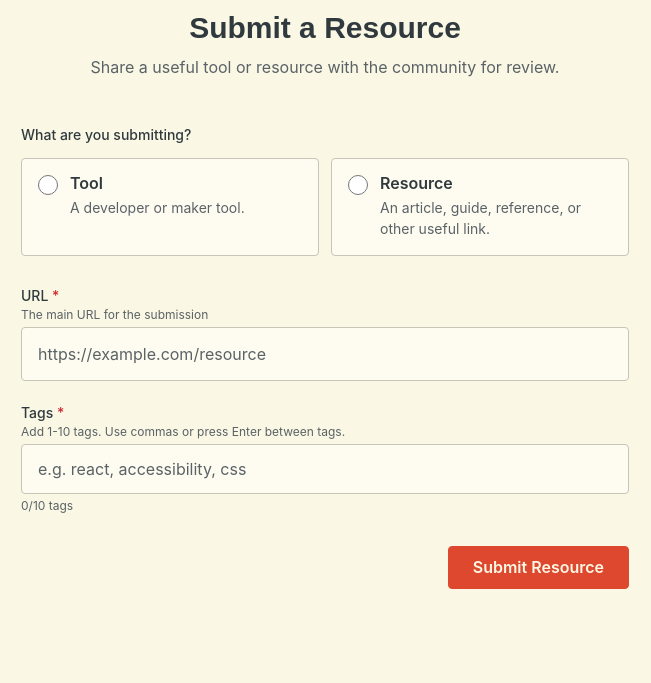
SubmitPage › hides safe submission diagnostics from non-admins outside development mode
Click the radio button labelled "Resource": {"x": 358, "y": 185} [348,175,368,195]
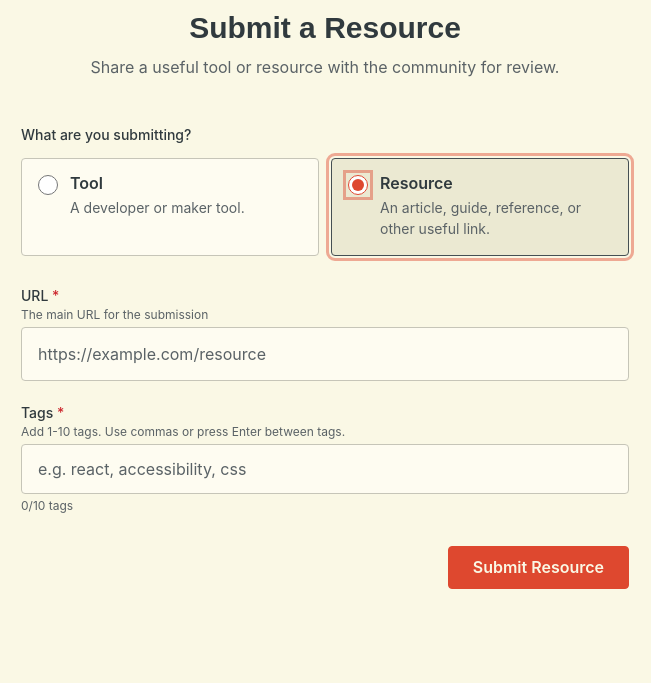
In the field labelled "URL": {"x": 325, "y": 354} [21,327,629,381], type "https://example.com/guide"
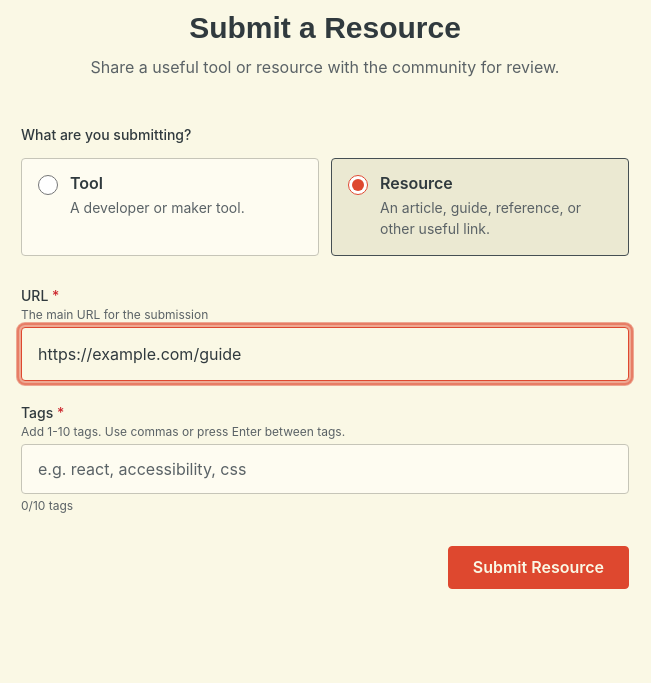
In the field labelled "Tags *": {"x": 325, "y": 469} [30,453,620,485], type "testing"
Then press Enter
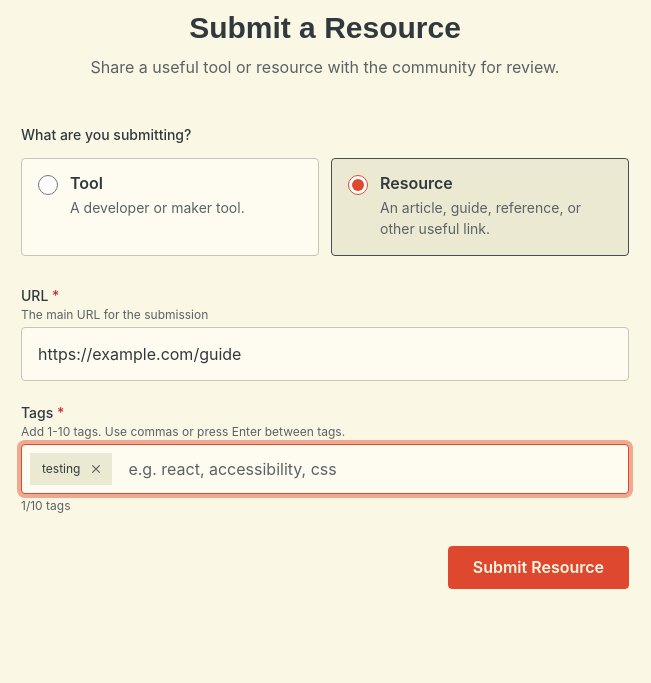
Click the button "Submit Resource": {"x": 538, "y": 567} [448,546,629,589]
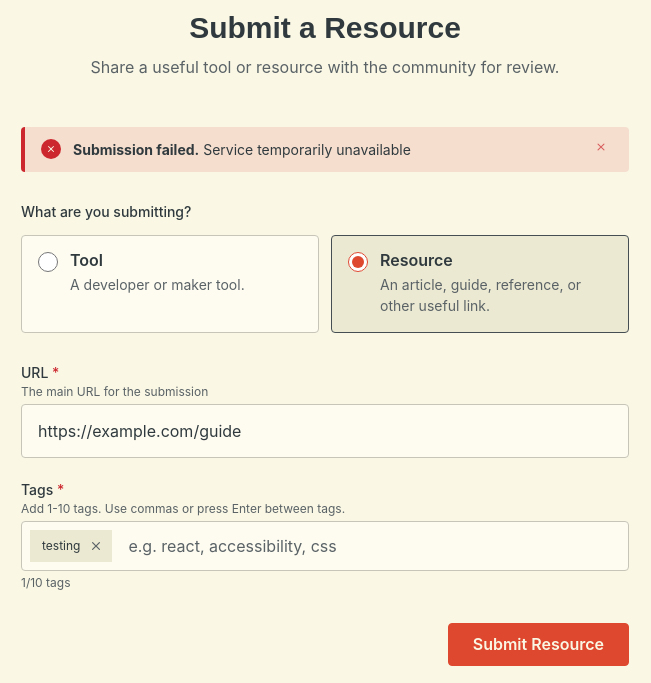
expect the text "Submission failed." is shown: met, box [73,141,199,158]
